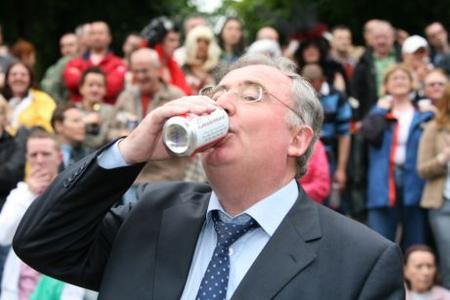person: (8, 56, 408, 299)
